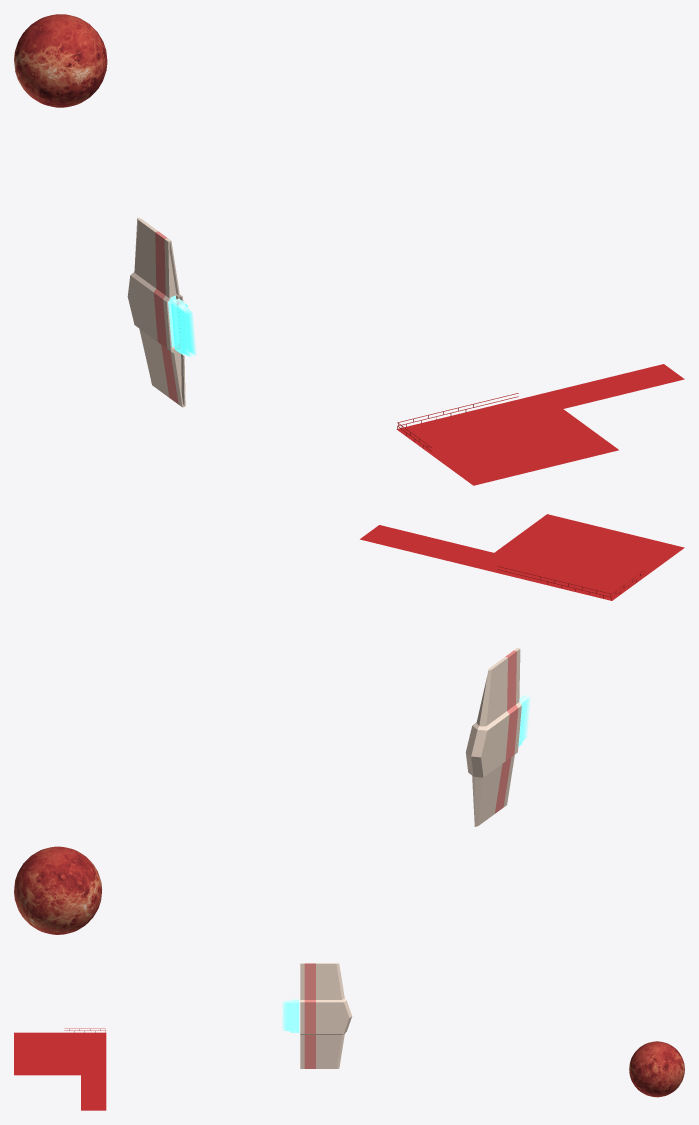
The model's file is exo planet.glb.
The picture shows the model from 3 angles, top to bottom: view 1: azimuth 30°, elevation 25°; view 2: azimuth 150°, elevation 25°; view 3: azimuth 270°, elevation 25°; orthographic projection. The views are drawn at different scales.
Parts seen in each view (by area): view 1: ground, mothership, planet; view 2: ground, mothership, planet; view 3: mothership, ground, planet.
Part boxes in pixels (bbox=[...]): ground: bbox=[396, 364, 684, 485]; mothership: bbox=[127, 217, 195, 407]; planet: bbox=[14, 14, 107, 107]; ground: bbox=[360, 514, 684, 600]; mothership: bbox=[465, 648, 530, 826]; planet: bbox=[14, 846, 102, 934]; mothership: bbox=[282, 963, 352, 1068]; ground: bbox=[14, 1032, 106, 1110]; planet: bbox=[629, 1041, 684, 1097].
Size of the model in its own units: 82.52 by 39.92 by 240.
3 materials, 3 textured.
